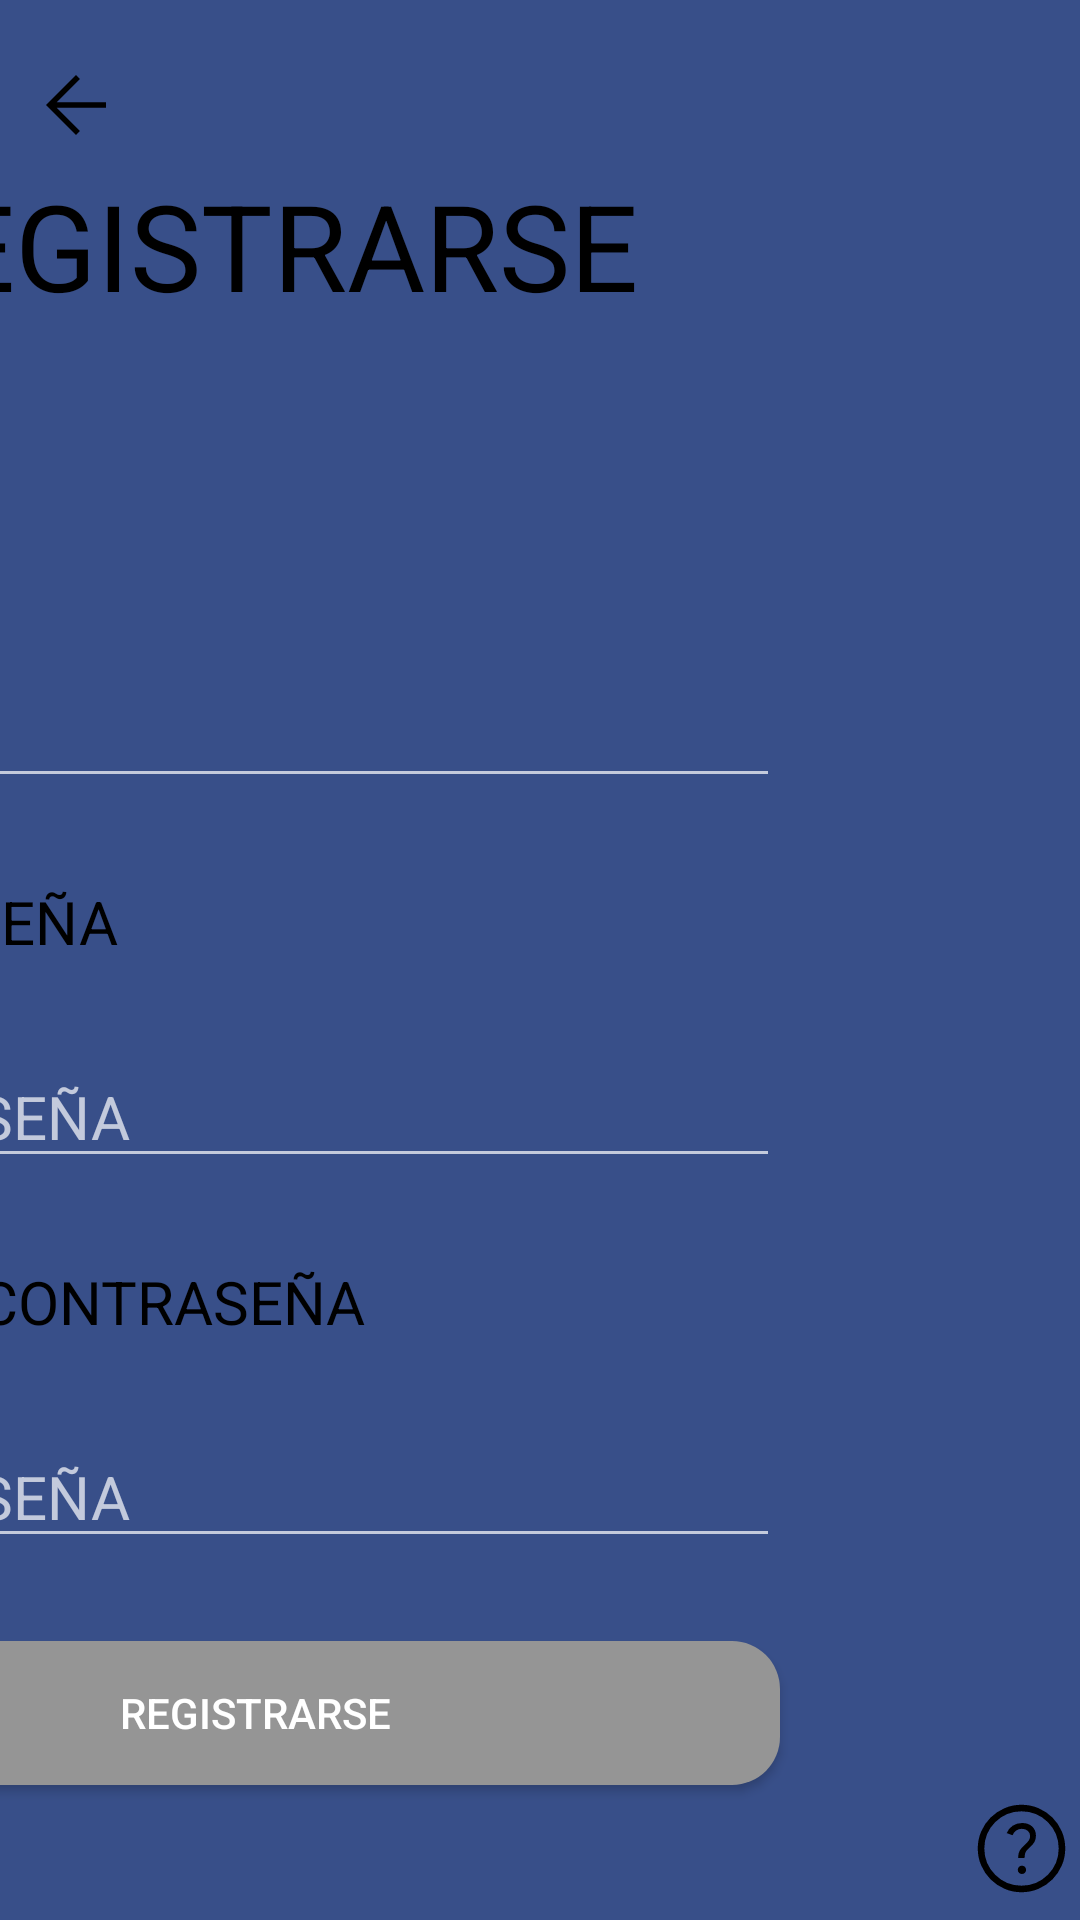

Where to tap for icons on this 1080w x 1920h app screen, as [x,y]:
arrow back android: [76,105]
help: [1021,1848]
